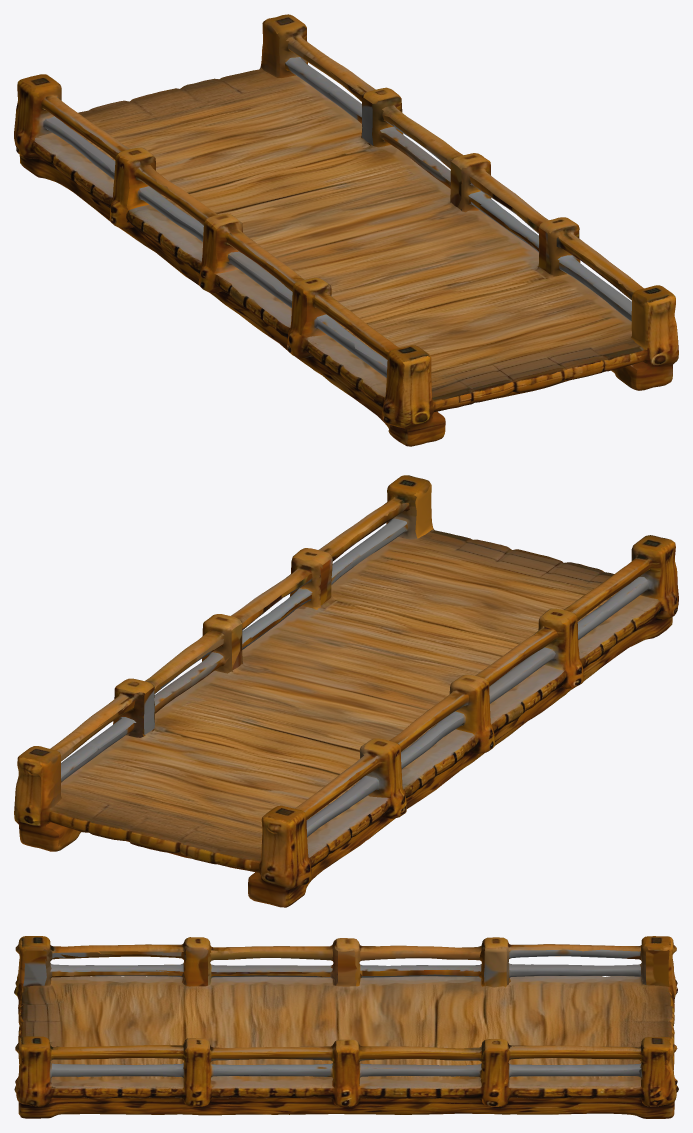
The model's file is pont.glb.
The picture shows the model from 3 angles, top to bottom: view 1: azimuth 30°, elevation 25°; view 2: azimuth 150°, elevation 25°; view 3: azimuth 270°, elevation 25°; orthographic projection. The views are drawn at different scales.
Parts seen in each view (by area): view 1: loup_texture.obj; view 2: loup_texture.obj; view 3: loup_texture.obj.
Boxes of the visible parts, x1,y1,x2,y2 form: loup_texture.obj: (14, 14, 678, 446); loup_texture.obj: (14, 475, 678, 907); loup_texture.obj: (14, 936, 678, 1118).
Size of the model in its own units: 12 by 3.5 by 28.
Materials: 1 (1 with a texture image).
